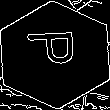P_E: (26, 35, 84, 75)
